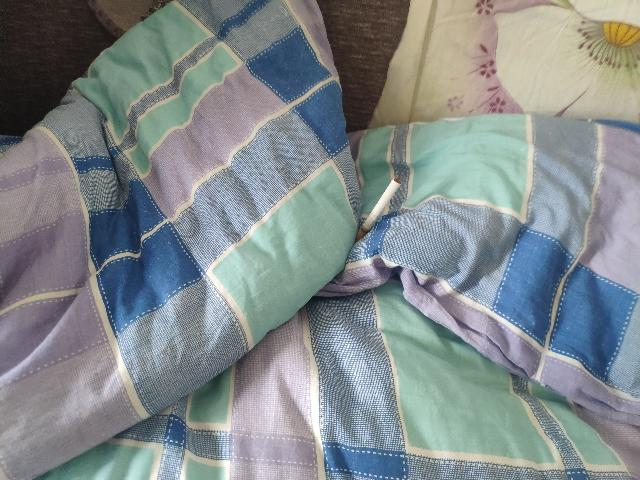Cigarette: (350, 177, 402, 248)
